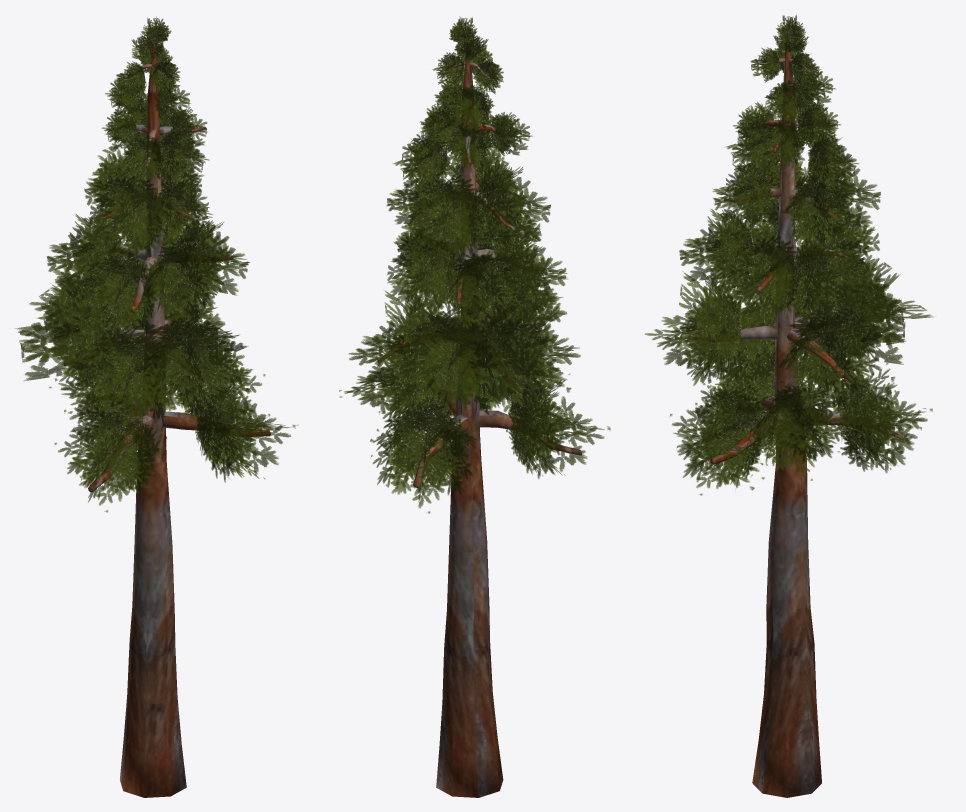
3 views of the same model, side by side, from view 1: azimuth 30°, elevation 25°; view 2: azimuth 150°, elevation 25°; view 3: azimuth 270°, elevation 25° (orthographic).
Visible parts, largest first — view 1: sq-rh; view 2: sq-rh; view 3: sq-rh.
Boxes of the visible parts, x1=… form: sq-rh: x1=14, y1=17, x2=298, y2=797; sq-rh: x1=339, y1=17, x2=610, y2=797; sq-rh: x1=645, y1=15, x2=933, y2=797.
Bounding box in the file's own units: 27.32 × 80 × 29.21.
2 materials, 2 textured.
